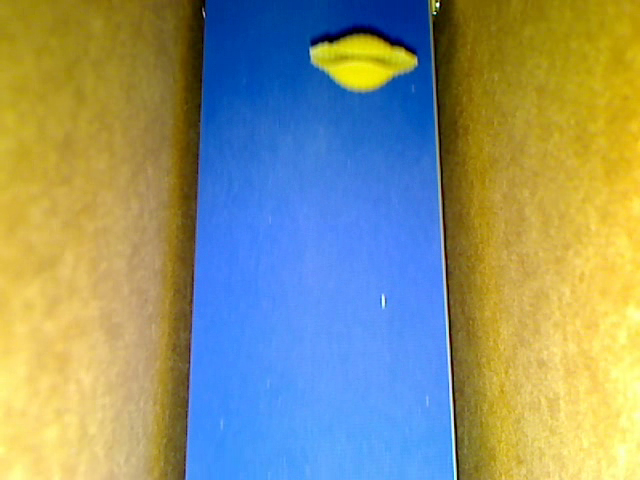shell: (308, 33, 417, 92)
